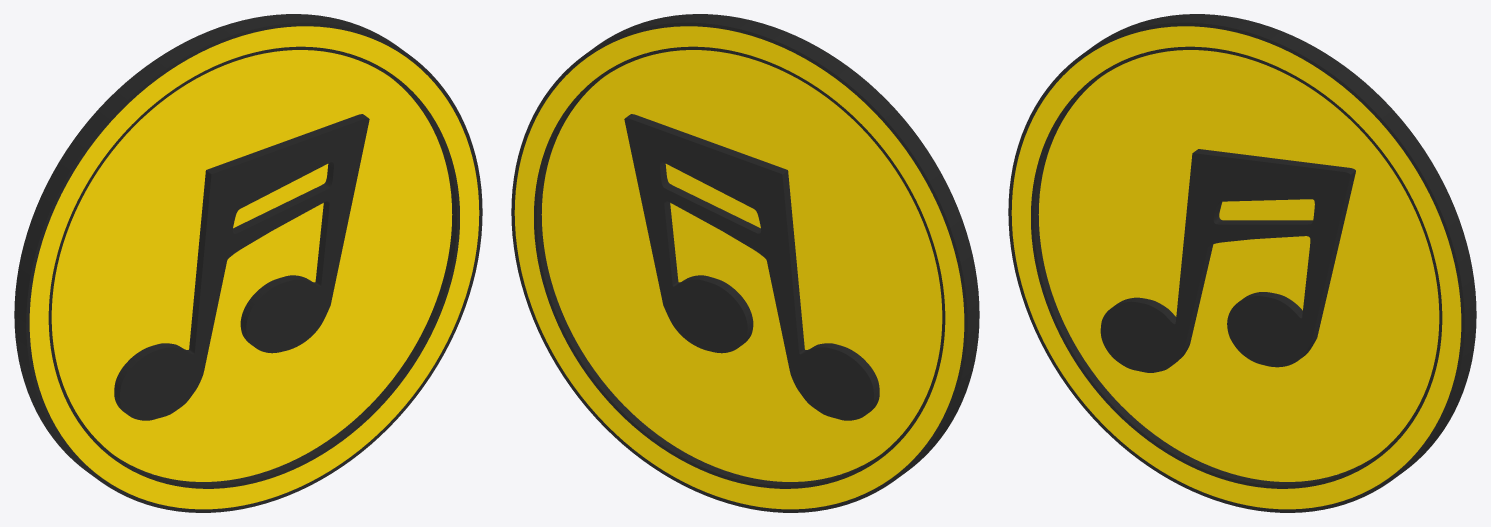
The model's file is Note_6.glb.
3 renders of one model, left to right at view 1: azimuth 30°, elevation 25°; view 2: azimuth 150°, elevation 25°; view 3: azimuth 330°, elevation 25°, orthographic.
Visible parts, largest first — view 1: Circle, Note_6; view 2: Circle, Note_6; view 3: Circle, Note_6.
Boxes of the visible parts, bbox=[...] form: Circle: bbox=[14, 14, 482, 512]; Note_6: bbox=[114, 114, 369, 420]; Circle: bbox=[511, 14, 979, 512]; Note_6: bbox=[624, 114, 879, 420]; Circle: bbox=[1008, 14, 1476, 512]; Note_6: bbox=[1100, 149, 1355, 372].
Bounding box in the file's own units: 2 × 2 × 0.1.
